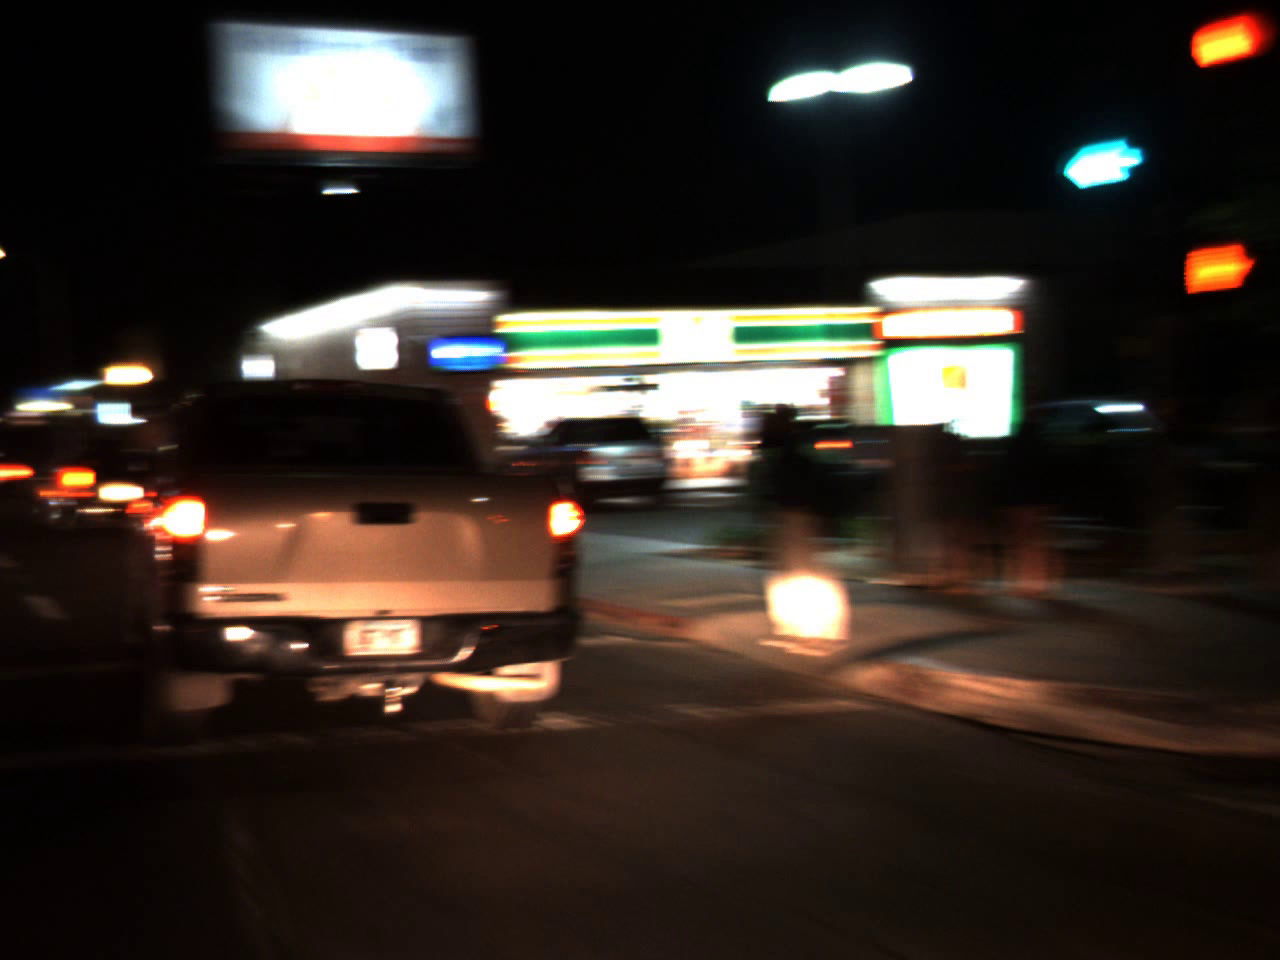go: (1038, 118, 1165, 190)
